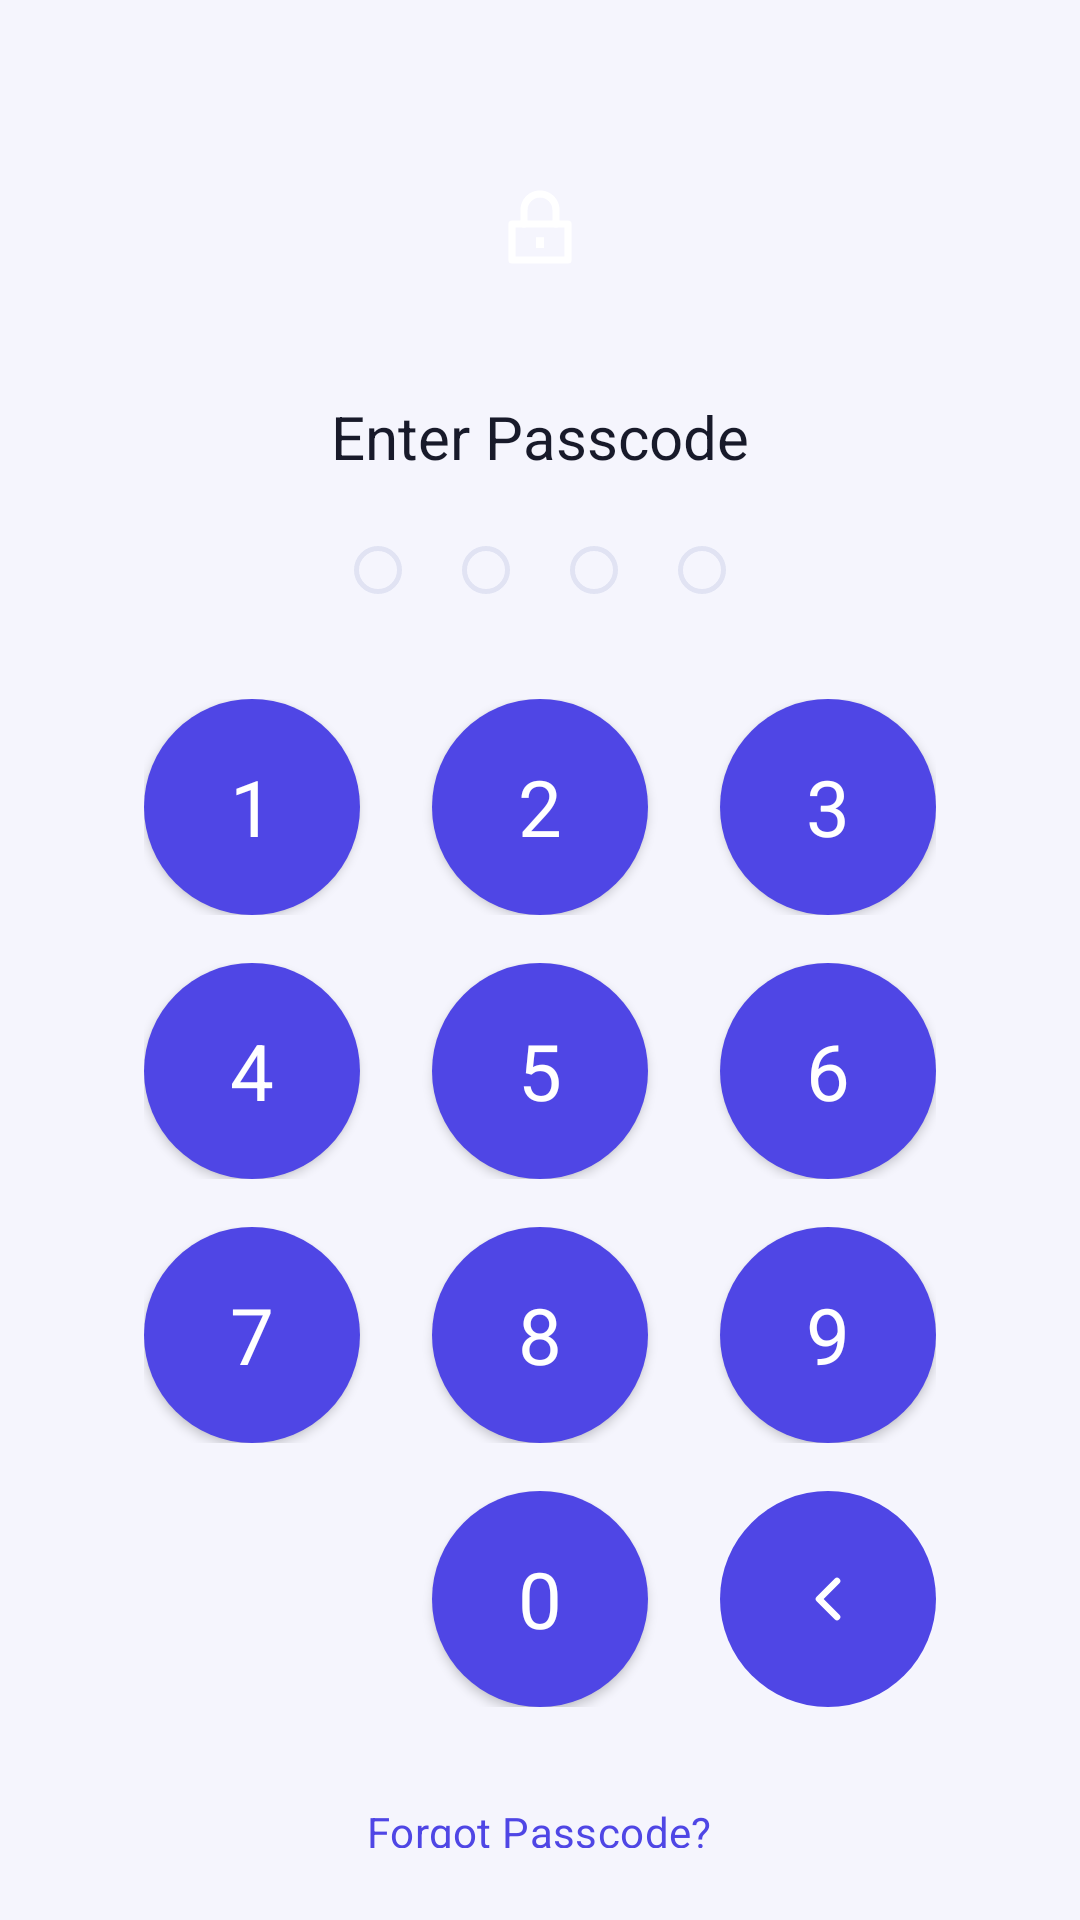

Where to tap for icons on this 1080x1920 app screen, as [x,y]:
Delete last digit: [828,1599]
